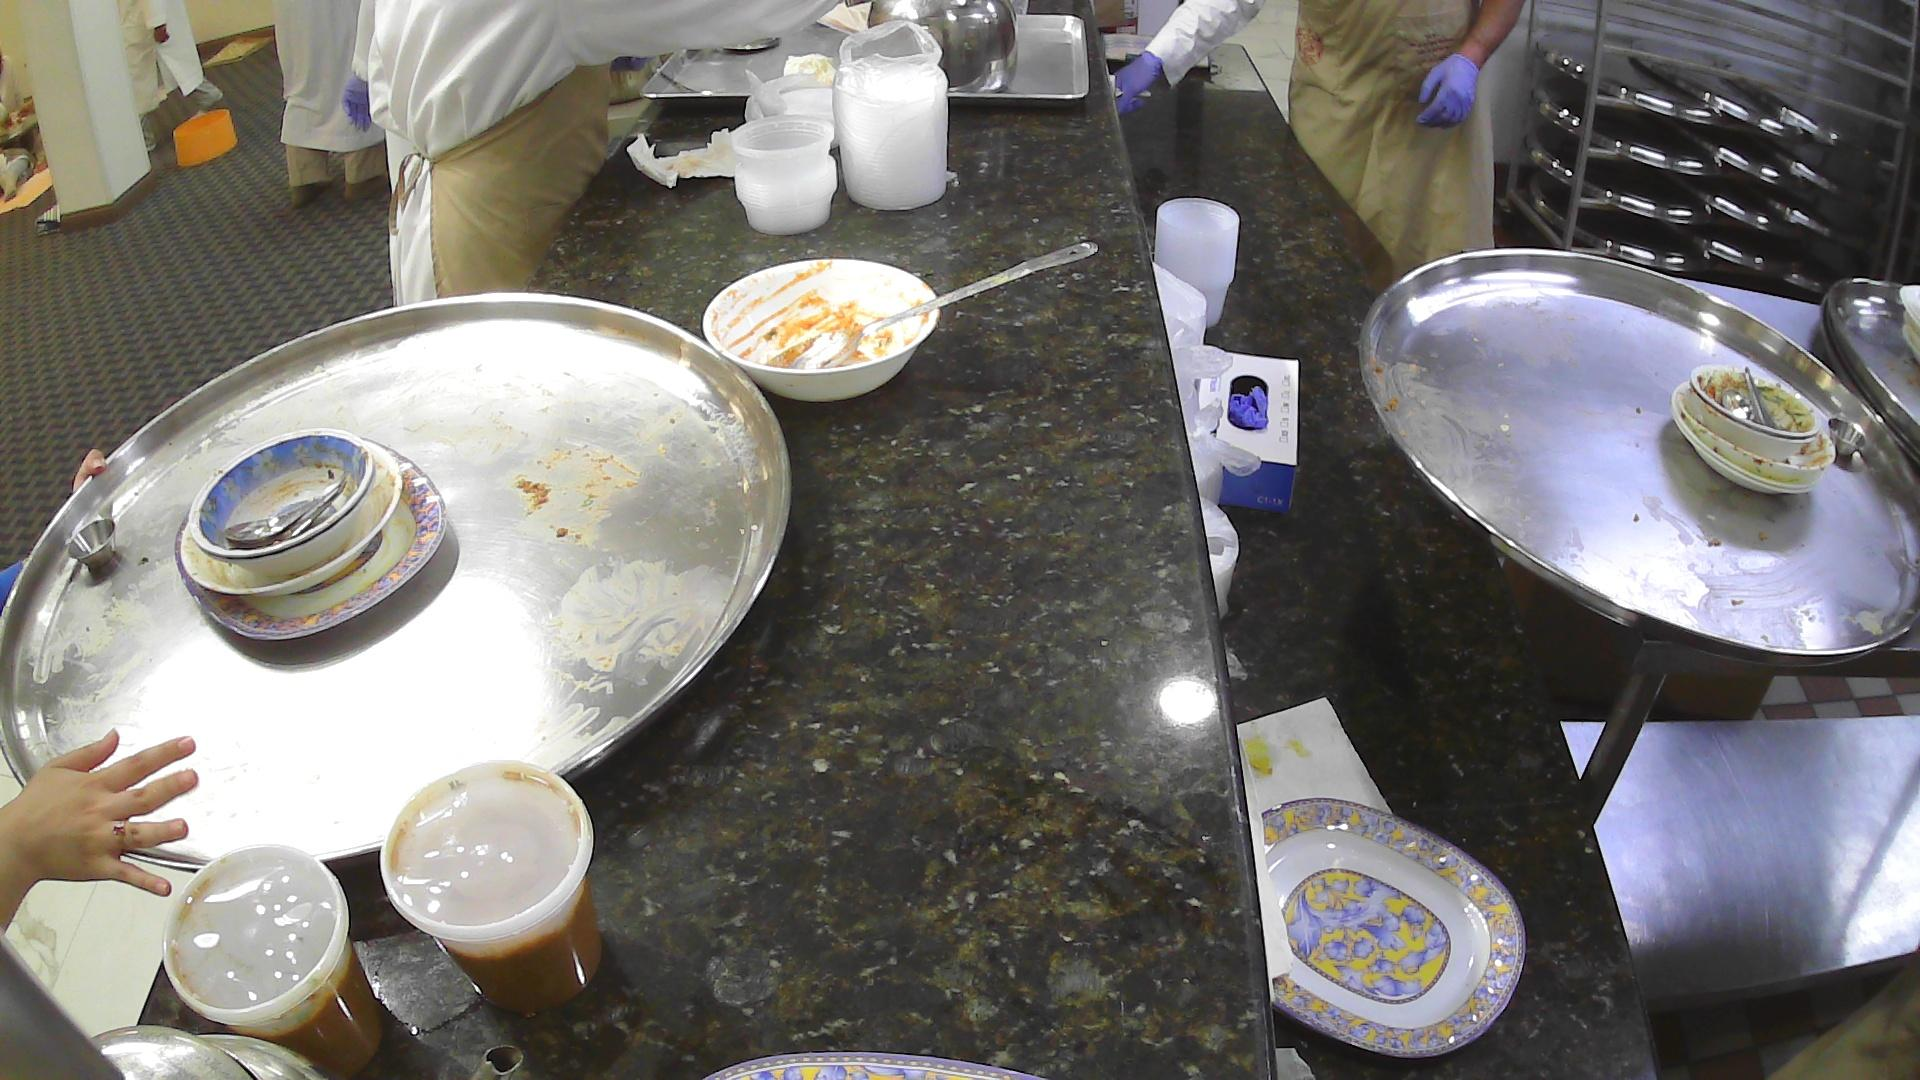thaal: (0, 286, 798, 880), (1354, 247, 1920, 667), (1811, 268, 1920, 469)
